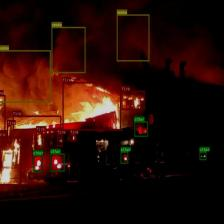fire: (62, 82, 121, 130), (0, 136, 21, 184), (13, 115, 61, 130), (121, 90, 145, 110), (0, 94, 5, 132), (36, 130, 42, 148), (7, 125, 11, 143), (57, 134, 62, 146), (70, 133, 75, 141)
smoke: (0, 50, 50, 102), (51, 27, 86, 73), (117, 14, 149, 61)
